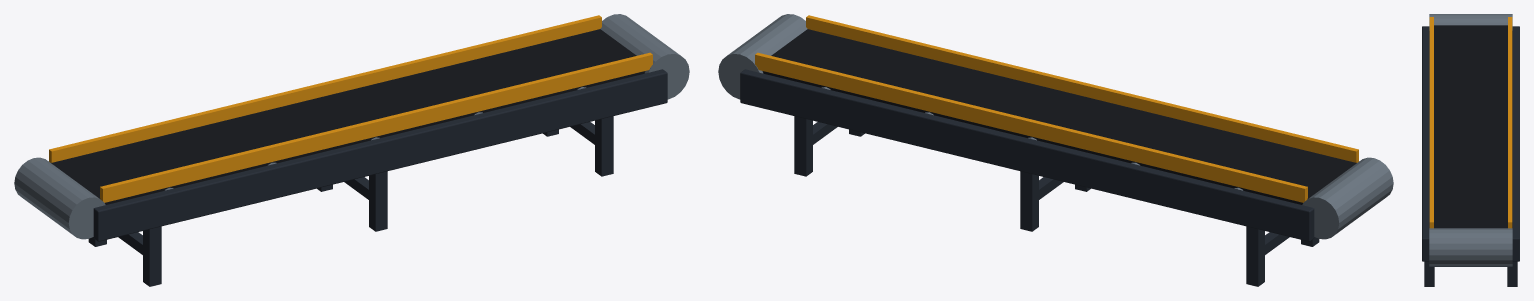
The model's file is conveyor_segment.glb.
3 renders of one model, left to right at view 1: azimuth 30°, elevation 25°; view 2: azimuth 150°, elevation 25°; view 3: azimuth 270°, elevation 25°, orthographic. The views are drawn at different scales.
Visible parts, largest first — view 1: CV_Belt, CV_Stringer_L, CV_Skirt_L, CV_Skirt_R, CV_TailPulley, CV_HeadPulley, CV_LegL_2, CV_LegL_3, CV_LegL_1; view 2: CV_Belt, CV_Stringer_R, CV_Skirt_R, CV_Skirt_L, CV_TailPulley, CV_HeadPulley, CV_LegR_2, CV_LegR_3, CV_LegR_1; view 3: CV_Belt, CV_HeadPulley, CV_Stringer_L, CV_Stringer_R, CV_Skirt_L, CV_Skirt_R, CV_TailPulley, CV_LegL_3, CV_LegR_3.
Boxes of the visible parts, left/top/right/bottom form: CV_Belt: left=51, top=29, right=645, bottom=204; CV_Stringer_L: left=93, top=69, right=667, bottom=241; CV_Skirt_L: left=100, top=52, right=652, bottom=202; CV_Skirt_R: left=49, top=15, right=601, bottom=162; CV_TailPulley: left=14, top=157, right=105, bottom=239; CV_HeadPulley: left=600, top=14, right=689, bottom=99; CV_LegL_2: left=369, top=171, right=387, bottom=231; CV_LegL_3: left=595, top=116, right=613, bottom=176; CV_LegL_1: left=143, top=226, right=161, bottom=286; CV_Belt: left=762, top=29, right=1356, bottom=204; CV_Stringer_R: left=740, top=69, right=1314, bottom=241; CV_Skirt_R: left=755, top=52, right=1307, bottom=202; CV_Skirt_L: left=806, top=15, right=1358, bottom=162; CV_TailPulley: left=1302, top=157, right=1393, bottom=239; CV_HeadPulley: left=718, top=14, right=807, bottom=99; CV_LegR_2: left=1020, top=171, right=1038, bottom=231; CV_LegR_3: left=794, top=116, right=812, bottom=176; CV_LegR_1: left=1246, top=226, right=1264, bottom=286; CV_Belt: left=1434, top=25, right=1507, bottom=228; CV_HeadPulley: left=1429, top=228, right=1512, bottom=266; CV_Stringer_L: left=1422, top=26, right=1429, bottom=261; CV_Stringer_R: left=1512, top=26, right=1519, bottom=261; CV_Skirt_L: left=1429, top=17, right=1433, bottom=228; CV_Skirt_R: left=1508, top=17, right=1512, bottom=228; CV_TailPulley: left=1429, top=14, right=1512, bottom=30; CV_LegL_3: left=1424, top=261, right=1434, bottom=286; CV_LegR_3: left=1507, top=261, right=1517, bottom=286.
Bounding box in the file's own units: 6.32 × 1.03 × 1.13.
